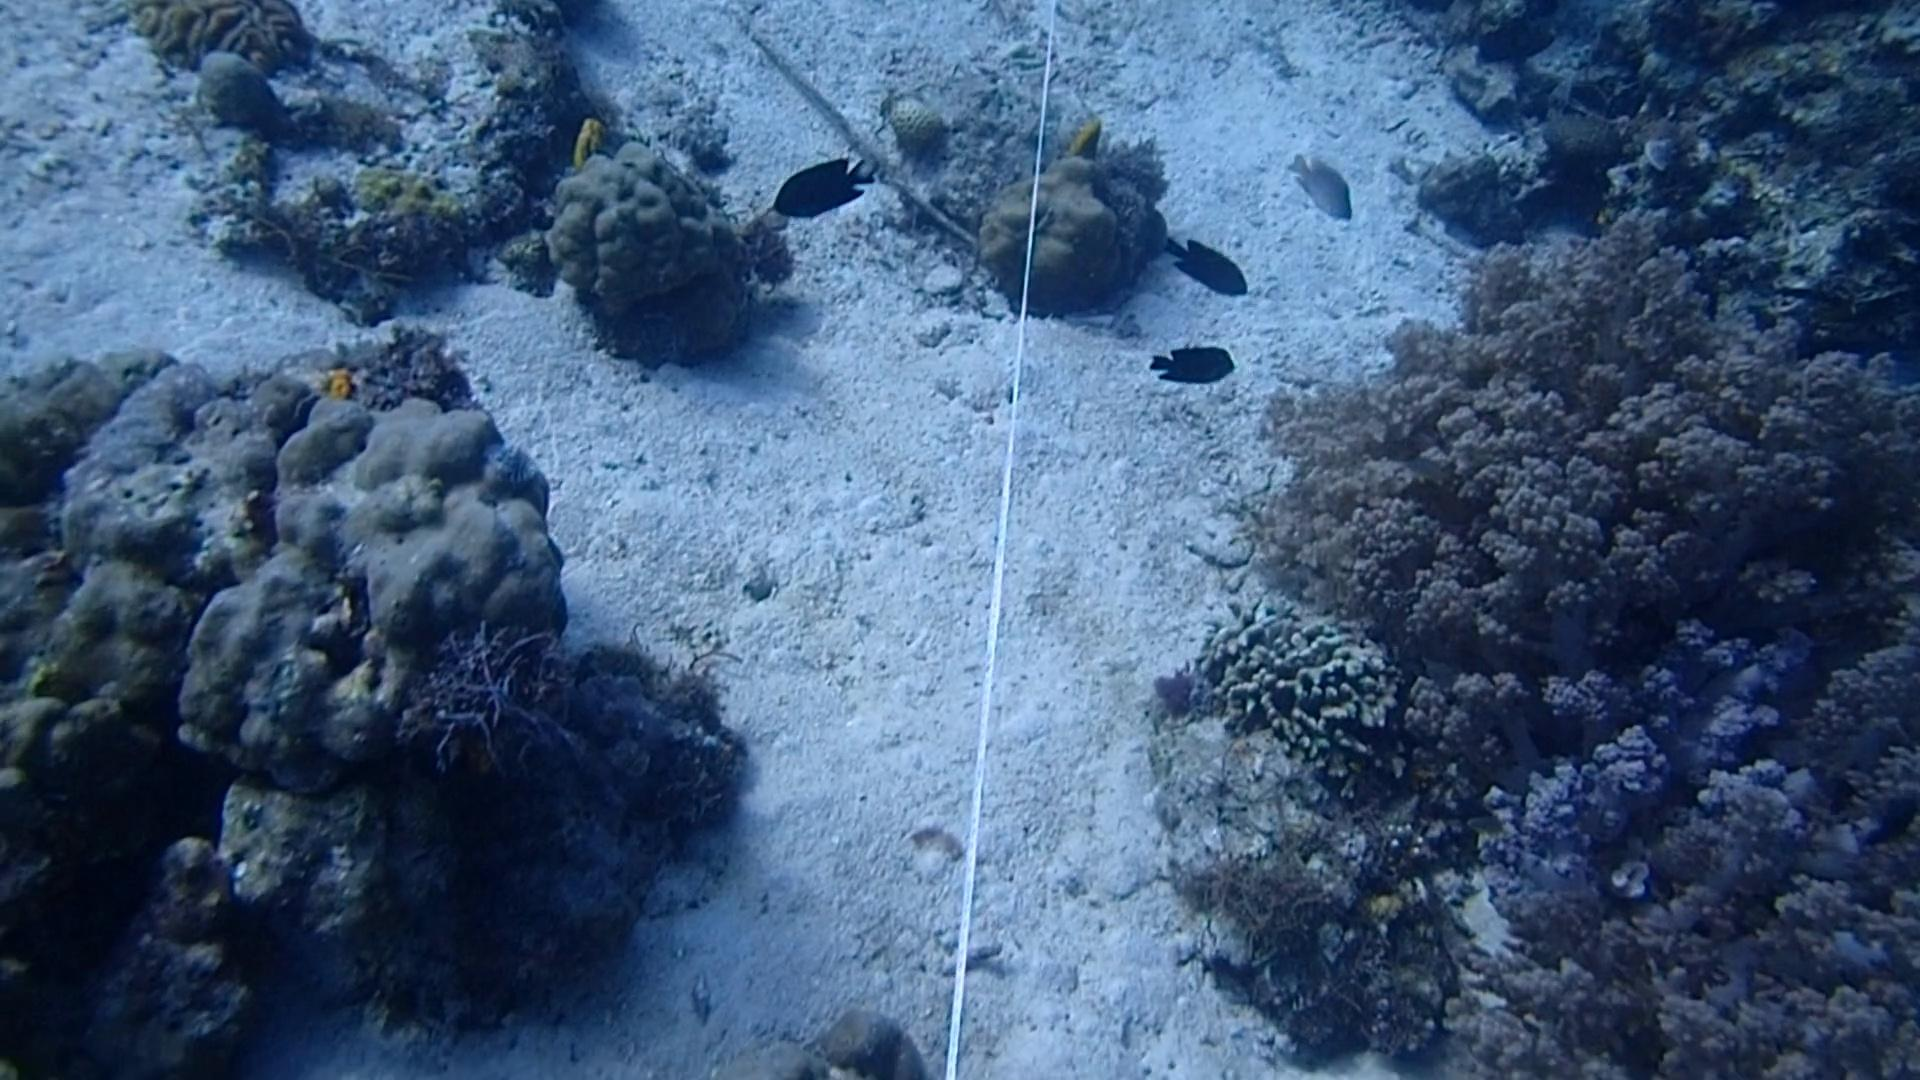Dark Fish: (1159, 222, 1262, 301), (770, 152, 873, 225), (1142, 338, 1241, 397), (1859, 783, 1920, 853)
Light Fish: (1280, 142, 1362, 222)
